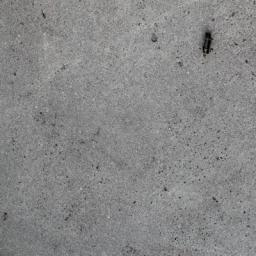FOD: (198, 31, 217, 61)
